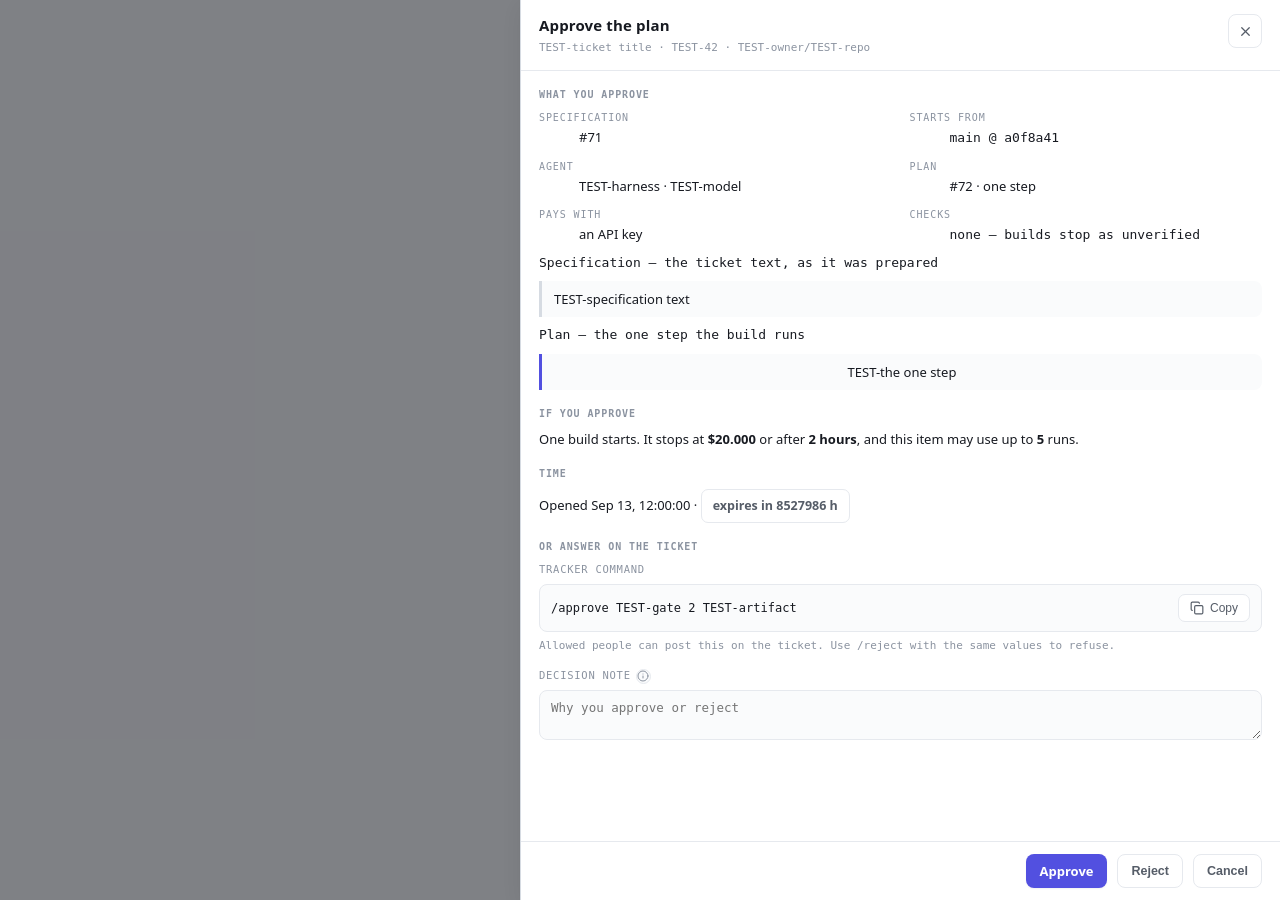
names the ticket that moved when a decision is superseded
Click the button "Approve". click: (1066, 871)
box: [1026,854,1107,888]
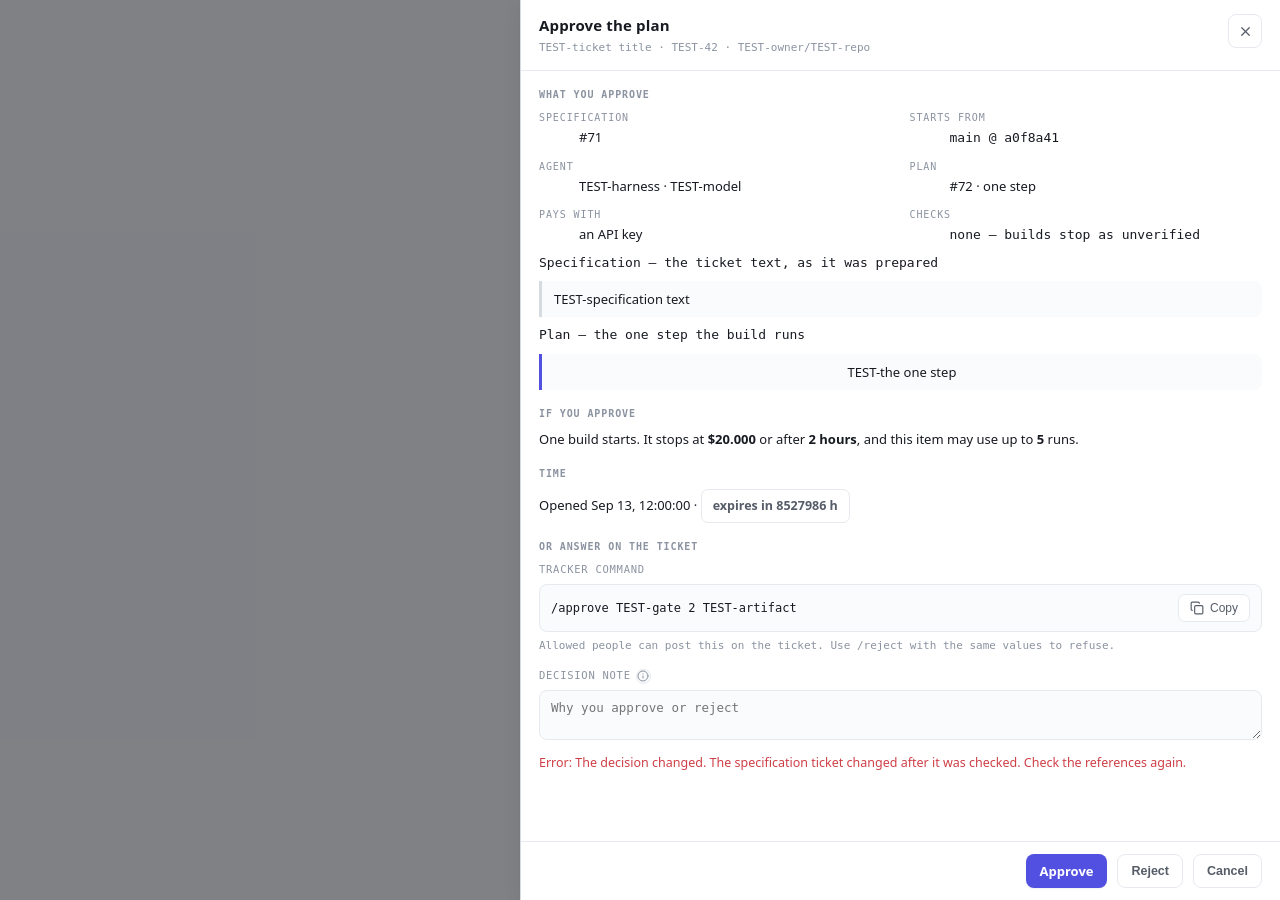
Expected: the message shows "The decision changed. The specification ticket changed after it was checked.", [539,754,1186,771]
